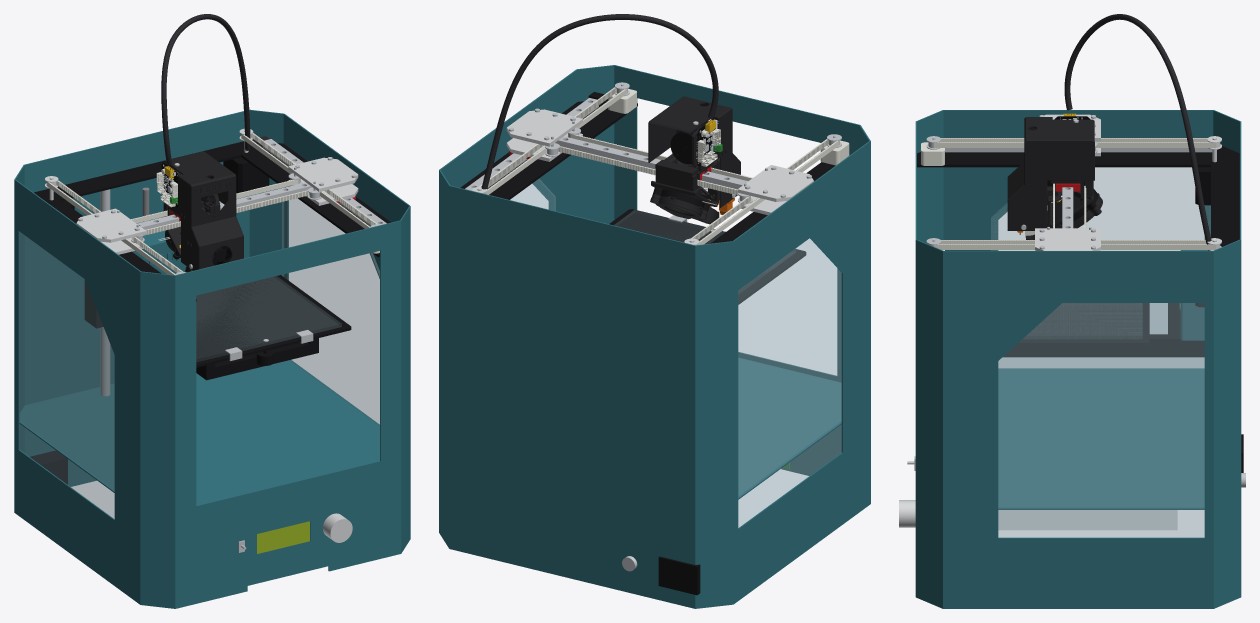
File: hefest_printer.glb
3 renders of one model, left to right at view 1: azimuth 30°, elevation 25°; view 2: azimuth 150°, elevation 25°; view 3: azimuth 270°, elevation 25°, orthographic. The views are drawn at different scales.
Parts seen in each view (by area): view 1: enclosure_shell, chamber_floor, side_window_left, side_window_right, bed_heater_plate, bed_glass, head_cover, top_frame_plate, belts_gt2, toolhead_cable_can, belts_gt2_teeth, bed_support_arms (+10 smaller); view 2: enclosure_shell, side_window_left, chamber_floor, head_cover, top_frame_plate, belts_gt2, toolhead_cable_can, bed_heater_plate, belts_gt2_teeth, bed_glass, x_end_plate_right_upper, x_end_plate_left_upper (+8 smaller); view 3: enclosure_shell, side_window_right, chamber_floor, side_window_left, head_cover, top_frame_plate, bed_heater_plate, belts_gt2, bed_glass, psu_lrs_350_24_planned, bed_support_arms, toolhead_cable_can (+7 smaller).
Boxes of the visible parts, x1=… form: enclosure_shell: x1=14, y1=109, x2=410, y2=608; chamber_floor: x1=19, y1=360, x2=379, y2=505; side_window_left: x1=20, y1=232, x2=114, y2=518; side_window_right: x1=282, y1=198, x2=379, y2=425; bed_heater_plate: x1=196, y1=275, x2=351, y2=367; bed_glass: x1=196, y1=276, x2=341, y2=361; head_cover: x1=164, y1=151, x2=243, y2=270; top_frame_plate: x1=34, y1=141, x2=390, y2=301; belts_gt2: x1=46, y1=133, x2=377, y2=275; toolhead_cable_can: x1=161, y1=14, x2=250, y2=165; belts_gt2_teeth: x1=50, y1=133, x2=376, y2=274; bed_support_arms: x1=196, y1=338, x2=318, y2=380; enclosure_shell: x1=439, y1=65, x2=870, y2=608; side_window_left: x1=738, y1=238, x2=841, y2=527; chamber_floor: x1=738, y1=358, x2=841, y2=499; head_cover: x1=648, y1=96, x2=740, y2=207; top_frame_plate: x1=460, y1=98, x2=849, y2=243; belts_gt2: x1=479, y1=87, x2=839, y2=244; toolhead_cable_can: x1=481, y1=14, x2=718, y2=189; bed_heater_plate: x1=609, y1=209, x2=806, y2=304; belts_gt2_teeth: x1=480, y1=88, x2=835, y2=241; bed_glass: x1=614, y1=209, x2=795, y2=293; x_end_plate_right_upper: x1=506, y1=109, x2=582, y2=146; x_end_plate_left_upper: x1=737, y1=165, x2=813, y2=201; enclosure_shell: x1=915, y1=110, x2=1241, y2=608; side_window_right: x1=998, y1=303, x2=1204, y2=537; chamber_floor: x1=998, y1=368, x2=1204, y2=509; side_window_left: x1=991, y1=167, x2=1210, y2=368; head_cover: x1=1007, y1=117, x2=1094, y2=230; top_frame_plate: x1=917, y1=146, x2=1239, y2=246; bed_heater_plate: x1=1016, y1=303, x2=1149, y2=345; belts_gt2: x1=934, y1=138, x2=1214, y2=249; bed_glass: x1=1023, y1=303, x2=1142, y2=338; psu_lrs_350_24_planned: x1=998, y1=510, x2=1177, y2=529; bed_support_arms: x1=1003, y1=303, x2=1204, y2=357; toolhead_cable_can: x1=1064, y1=14, x2=1211, y2=250.
Size of the model in its own units: 365 by 623 by 378.
